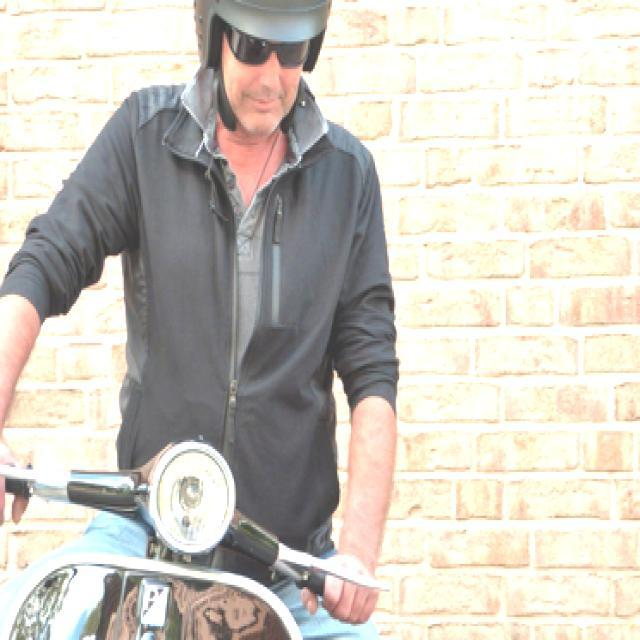Helmet: (180, 0, 335, 140)
